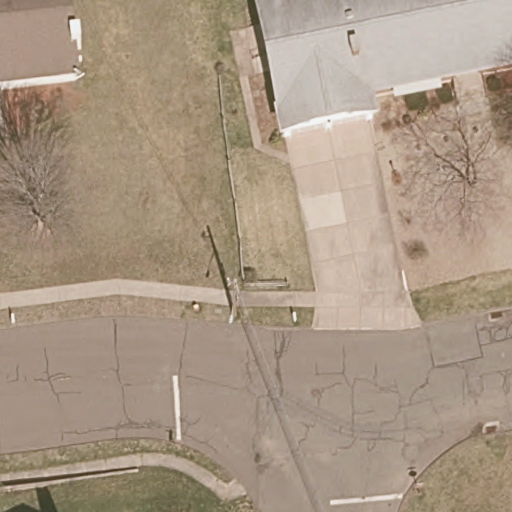DT: (224, 275, 244, 324)
